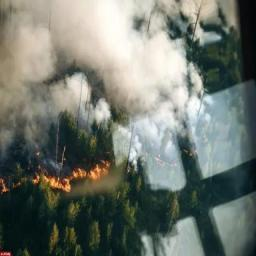Heavy smoke: (0, 0, 221, 176)
Medium fire: (0, 154, 152, 201)
